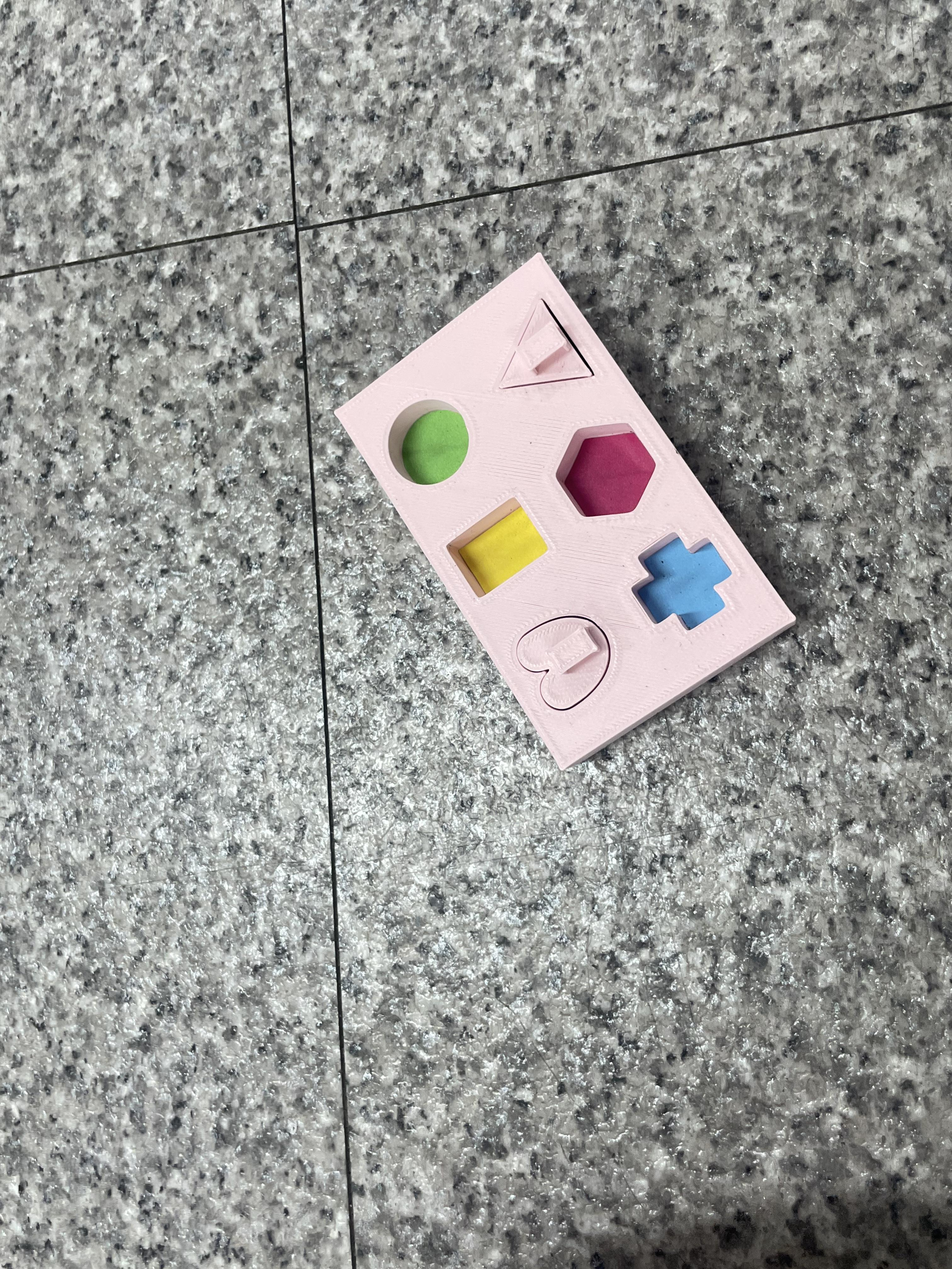unsolved: (321, 234, 818, 782)
